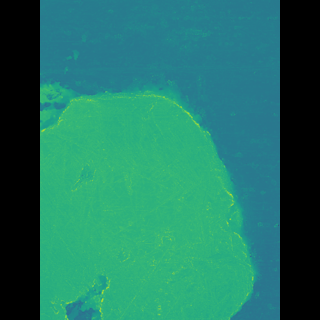Loch: (70, 75, 237, 320)
